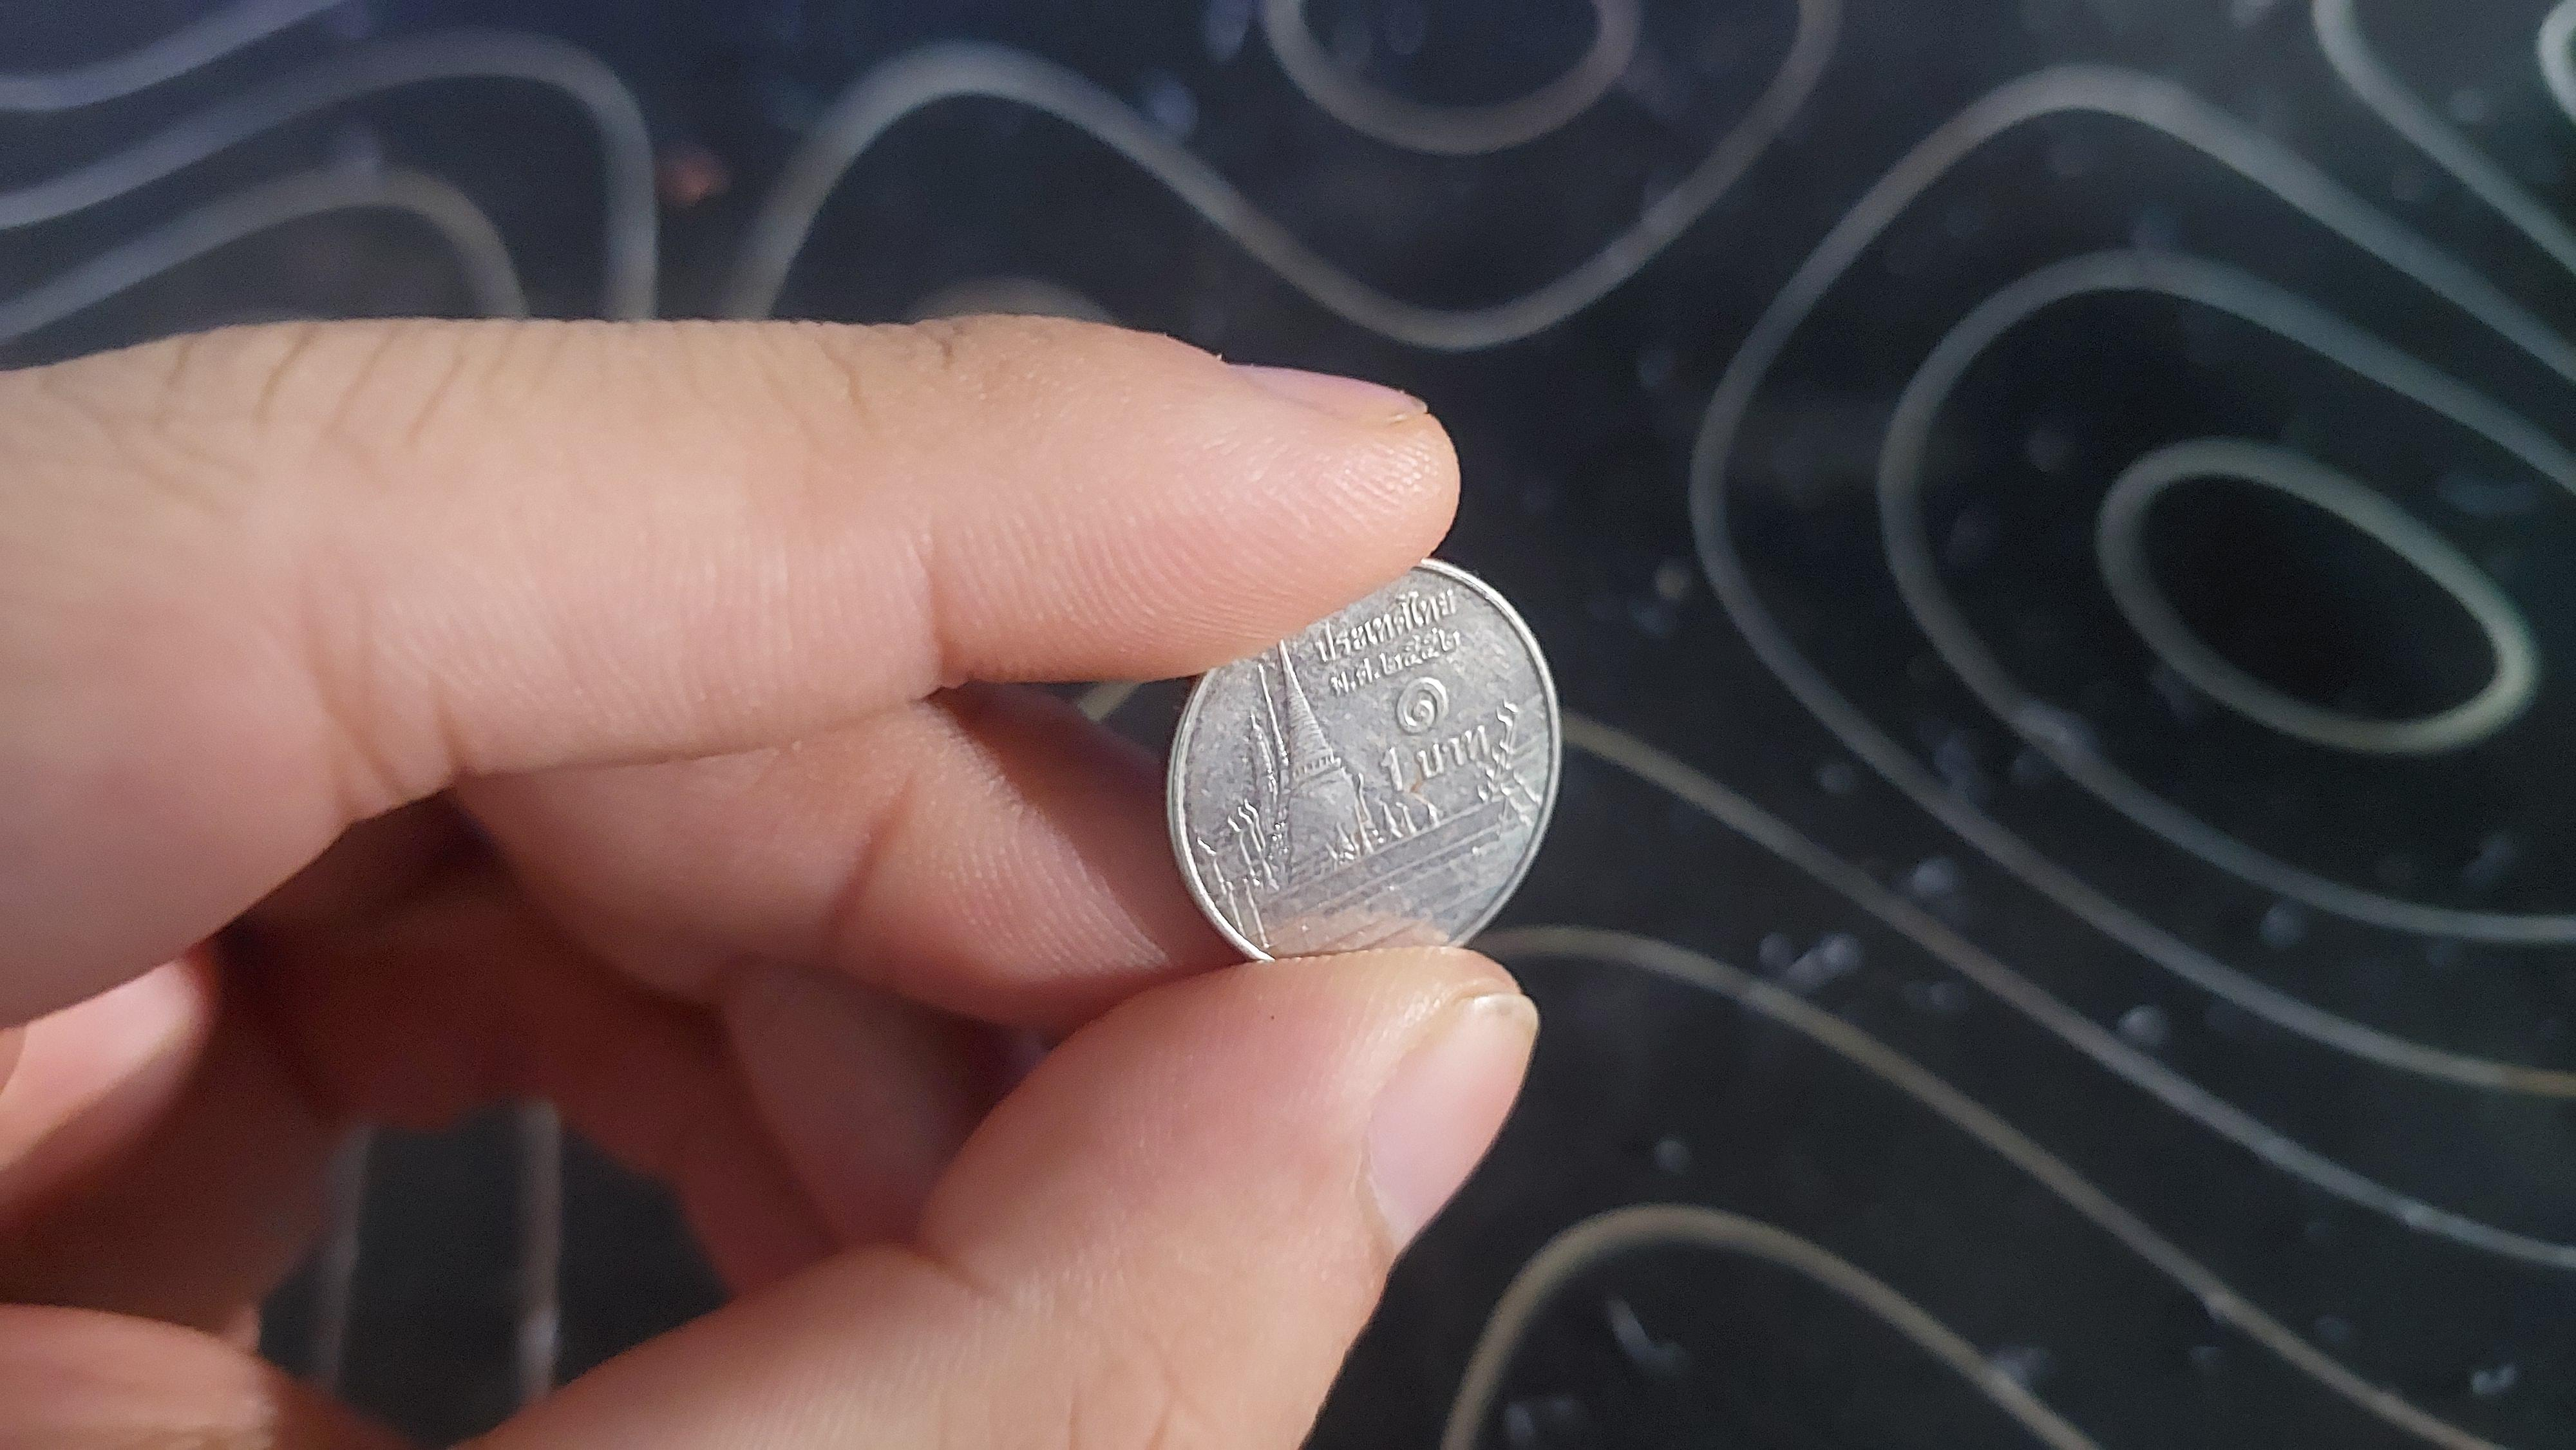1baht: (1129, 478, 1636, 1015)
